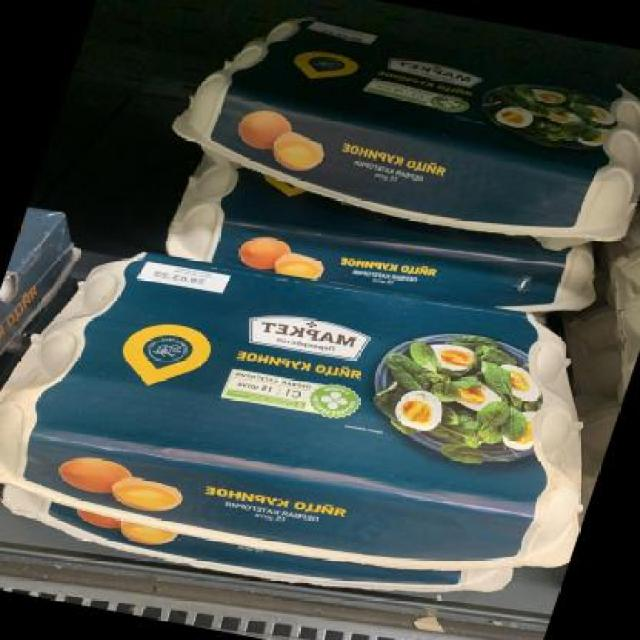Egg: (1, 227, 640, 595), (156, 0, 640, 262), (156, 166, 610, 332)
